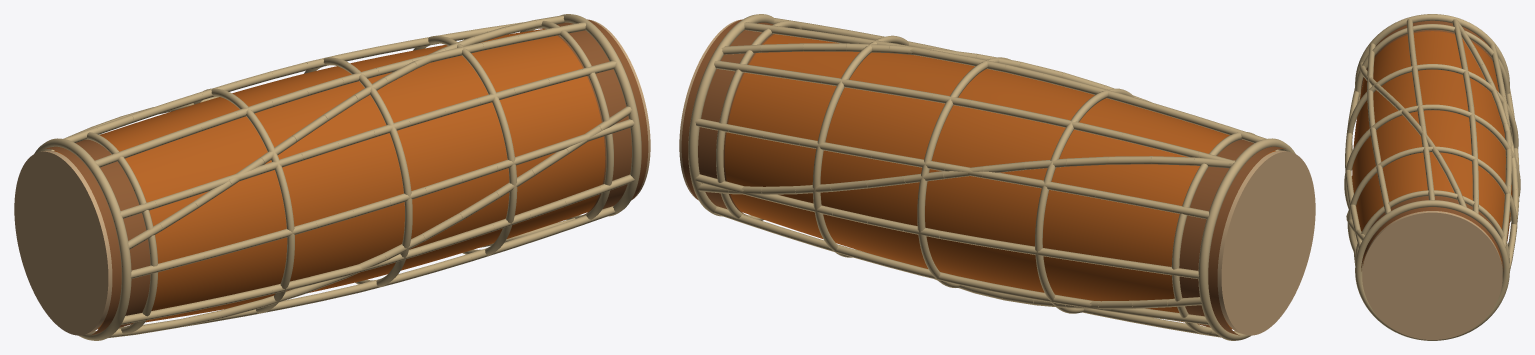
Rendered from trong-com.glb.
3 views of the same model, side by side, from view 1: azimuth 30°, elevation 25°; view 2: azimuth 150°, elevation 25°; view 3: azimuth 270°, elevation 25° (orthographic). The views are drawn at different scales.
Parts seen in each view (by area): view 1: shell, head_left, collar_left, collar_right, anchor_ring_left, anchor_ring_right, tension_band_2, tension_band_3, tension_band_1, lash_ring_left, lash_ring_right, head_right; view 2: shell, head_left, collar_left, collar_right, anchor_ring_left, anchor_ring_right, tension_band_1, tension_band_2, tension_band_3, lash_ring_left, lash_ring_right, head_right; view 3: shell, head_right, anchor_ring_right, tension_band_3, tension_band_2, tension_band_1, anchor_ring_left, lash_ring_left, collar_right, lash_ring_right, collar_left, cross_lace_2_9 (+1 smaller).
Boxes of the visible parts, bbox=[...] form: shell: bbox=[54, 29, 605, 329]; head_left: bbox=[14, 150, 112, 335]; collar_left: bbox=[44, 139, 150, 335]; collar_right: bbox=[537, 19, 648, 215]; anchor_ring_left: bbox=[34, 138, 131, 340]; anchor_ring_right: bbox=[560, 14, 641, 216]; tension_band_2: bbox=[304, 57, 412, 287]; tension_band_3: bbox=[413, 35, 517, 255]; tension_band_1: bbox=[193, 88, 294, 313]; lash_ring_left: bbox=[86, 132, 158, 334]; lash_ring_right: bbox=[520, 21, 613, 220]; head_right: bbox=[589, 19, 650, 199]; shell: bbox=[724, 34, 1275, 329]; head_left: bbox=[1217, 150, 1315, 335]; collar_left: bbox=[1179, 139, 1285, 335]; collar_right: bbox=[681, 19, 774, 215]; anchor_ring_left: bbox=[1198, 138, 1295, 340]; anchor_ring_right: bbox=[688, 14, 774, 216]; tension_band_1: bbox=[1035, 88, 1134, 313]; tension_band_2: bbox=[917, 57, 1010, 287]; tension_band_3: bbox=[812, 35, 908, 257]; lash_ring_left: bbox=[1171, 132, 1255, 334]; lash_ring_right: bbox=[716, 20, 801, 220]; head_right: bbox=[679, 19, 740, 199]; shell: bbox=[1352, 31, 1512, 263]; head_right: bbox=[1362, 211, 1502, 339]; anchor_ring_right: bbox=[1355, 200, 1509, 340]; tension_band_3: bbox=[1347, 146, 1517, 251]; tension_band_2: bbox=[1344, 104, 1520, 221]; tension_band_1: bbox=[1347, 64, 1518, 169]; anchor_ring_left: bbox=[1355, 14, 1509, 86]; lash_ring_left: bbox=[1355, 24, 1509, 102]; collar_right: bbox=[1361, 196, 1503, 271]; lash_ring_right: bbox=[1355, 190, 1509, 263]; collar_left: bbox=[1361, 20, 1492, 91]; cross_lace_2_9: bbox=[1511, 167, 1518, 191].
Bounding box in the file's own units: 0.559 × 0.2108 × 0.2108.
